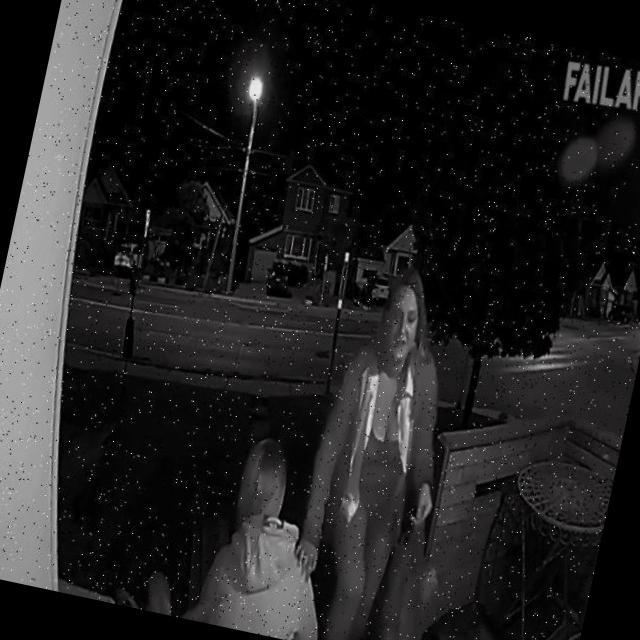person: (264, 266, 490, 640), (149, 411, 358, 640)
